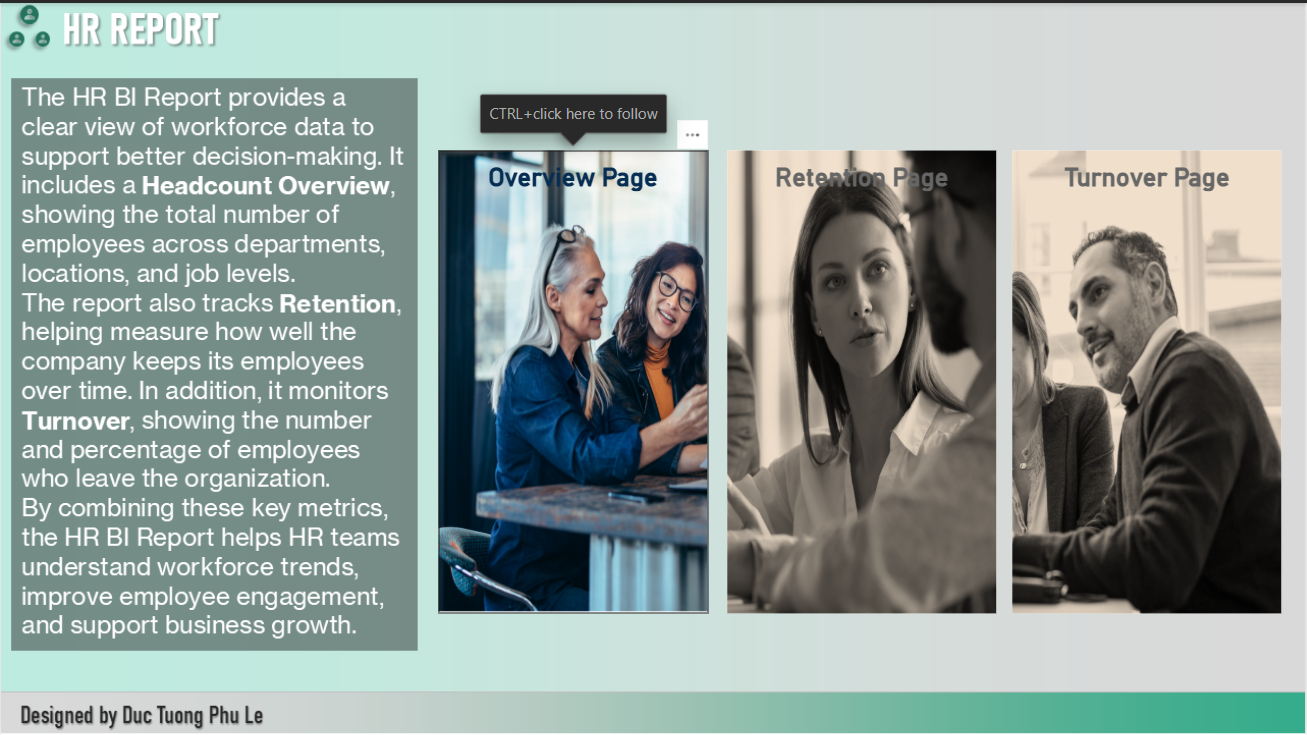

This screenshot's page, from the dashboard's own definition file:
{"tool":"powerbi","page":{"name":"Cover Page","canvas":[1280,720],"ordinal":0},"visuals":[{"type":"actionButton","box":[429.5,145.2,264.4,454.3],"z":0},{"type":"actionButton","box":[712.5,145.2,264.4,454.3],"z":1000},{"type":"actionButton","box":[993,145.2,264.4,454.3],"z":2000}]}

Visuals, with their boxes in screenshot pixels (x1, y1, x2, y2), scaled from the page's 1280x720 canvas onto the 1307x735 screenshot:
actionButton: BBox(439, 148, 709, 612)
actionButton: BBox(728, 148, 998, 612)
actionButton: BBox(1014, 148, 1284, 612)
